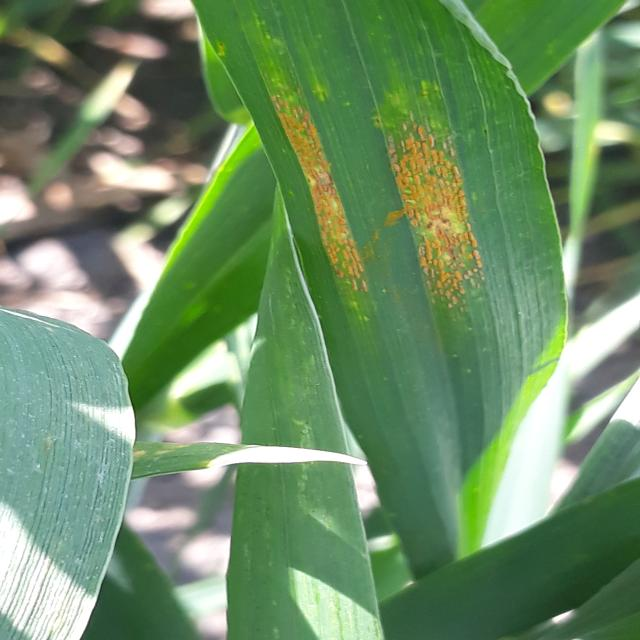yellow_rust: (217, 14, 566, 394)
